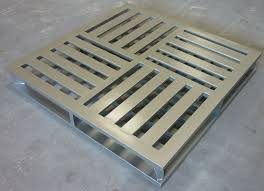pallet: (9, 2, 262, 187)
